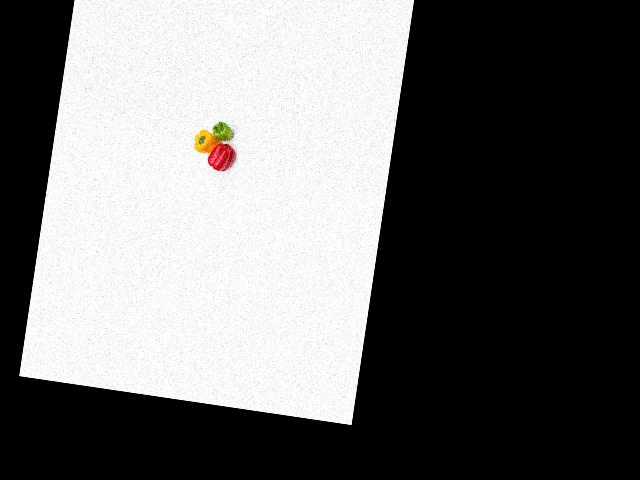bell_pepper: (209, 115, 236, 143)
